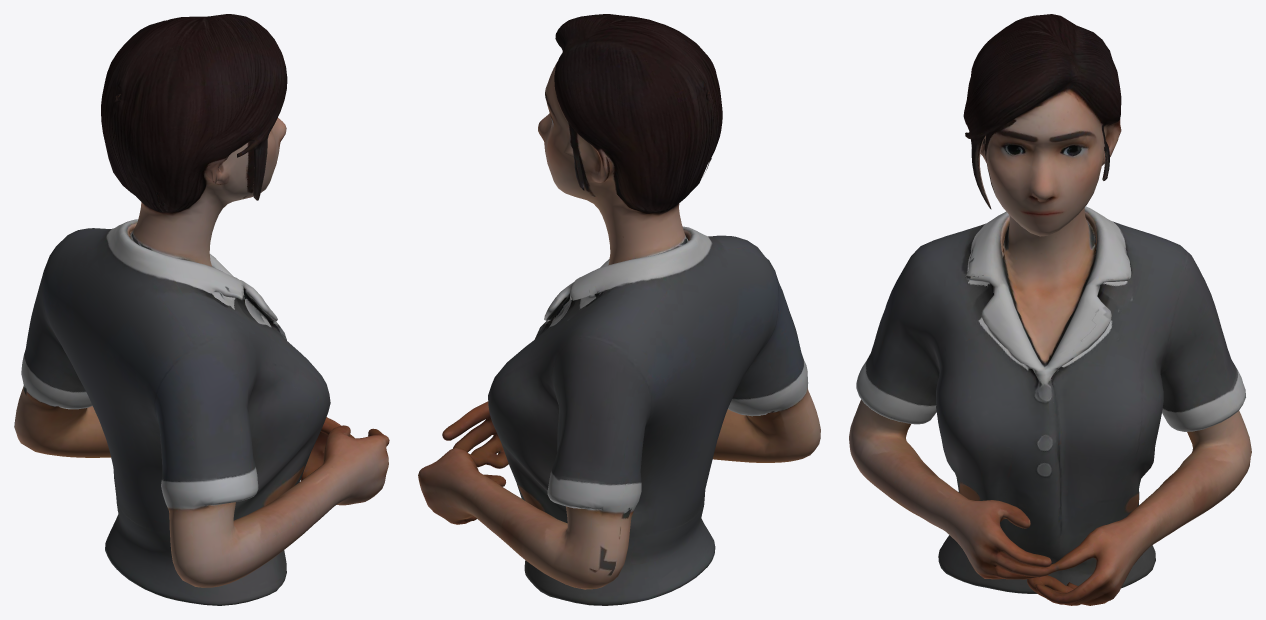
The model's file is suspect_1.glb.
The picture shows the model from 3 angles, left to right: view 1: azimuth 30°, elevation 25°; view 2: azimuth 150°, elevation 25°; view 3: azimuth 270°, elevation 25°; orthographic projection.
Parts seen in each view (by area): view 1: tripo_node_f87c115f-3f29-4c98-9f85-2b24a693f8b6; view 2: tripo_node_f87c115f-3f29-4c98-9f85-2b24a693f8b6; view 3: tripo_node_f87c115f-3f29-4c98-9f85-2b24a693f8b6.
Boxes of the visible parts, x1=… form: tripo_node_f87c115f-3f29-4c98-9f85-2b24a693f8b6: x1=14, y1=14, x2=389, y2=605; tripo_node_f87c115f-3f29-4c98-9f85-2b24a693f8b6: x1=418, y1=14, x2=820, y2=605; tripo_node_f87c115f-3f29-4c98-9f85-2b24a693f8b6: x1=849, y1=14, x2=1251, y2=605.
Bounding box in the file's own units: 0.5586 × 0.9979 × 0.6836.
Materials: 1 (1 with a texture image).
